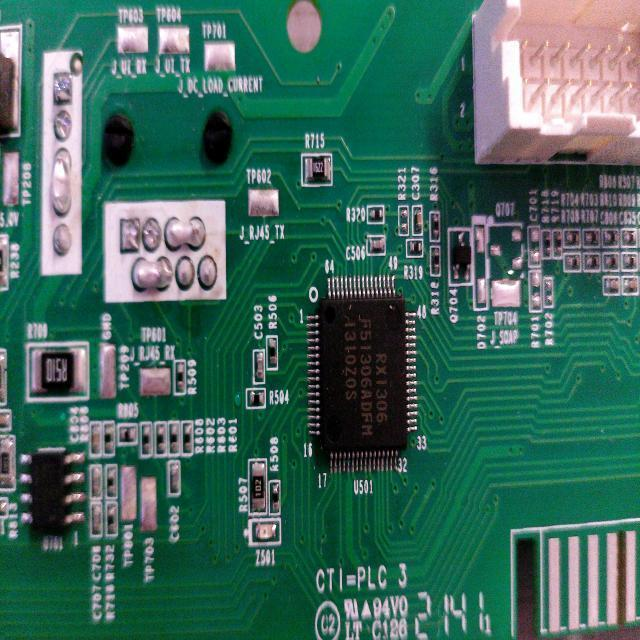Soldering shorted: (132, 256, 176, 300), (50, 146, 74, 217), (164, 214, 206, 249)
